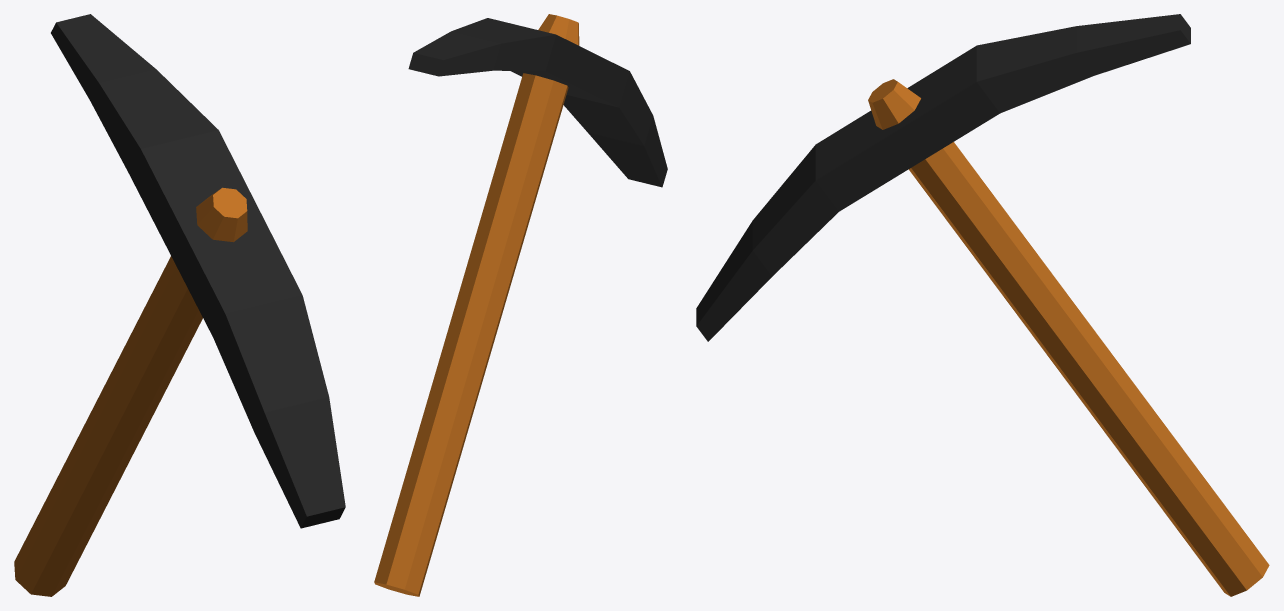
The model's file is mining_quarrying_and_oil_and_gas_extraction.gltf.
The picture shows the model from 3 angles, left to right: view 1: azimuth 30°, elevation 25°; view 2: azimuth 150°, elevation 25°; view 3: azimuth 270°, elevation 25°; orthographic projection. The views are drawn at different scales.
Visible parts, largest first — view 1: Mining, Quarrying, and Oil and Gas Extraction; view 2: Mining, Quarrying, and Oil and Gas Extraction; view 3: Mining, Quarrying, and Oil and Gas Extraction.
Part boxes in pixels (x1=…): Mining, Quarrying, and Oil and Gas Extraction: x1=14, y1=14, x2=345, y2=596; Mining, Quarrying, and Oil and Gas Extraction: x1=374, y1=14, x2=667, y2=596; Mining, Quarrying, and Oil and Gas Extraction: x1=696, y1=14, x2=1269, y2=596.
Bounding box in the file's own units: 0.2387 × 1.74 × 1.59.
1 material, 1 textured.
